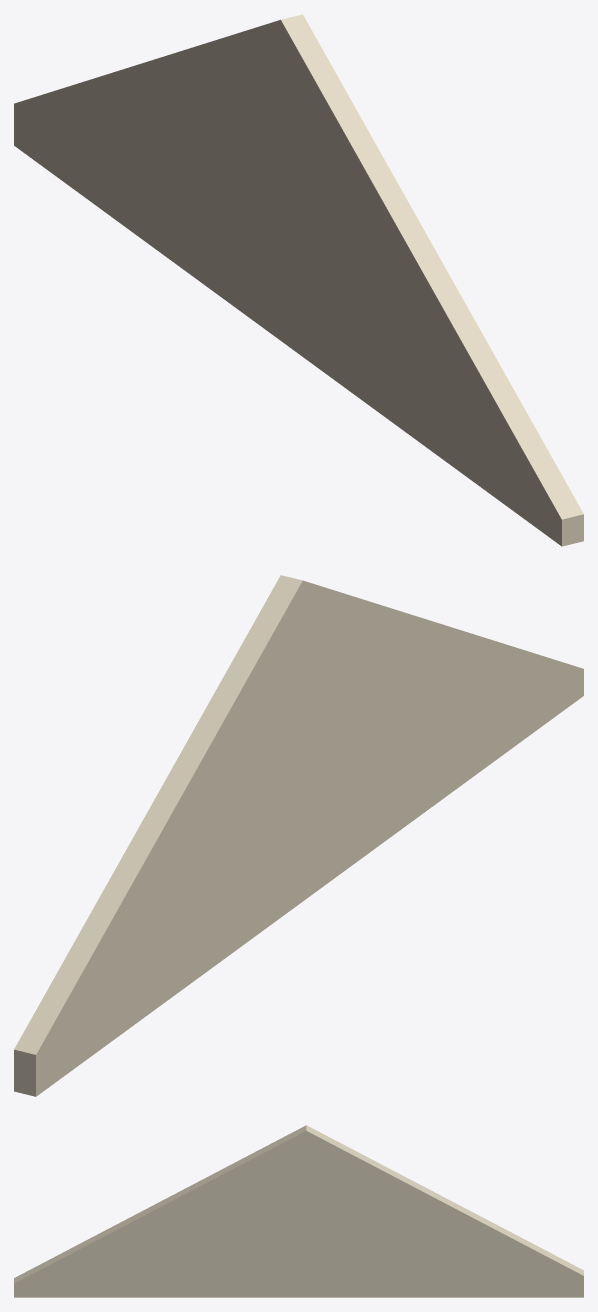
3 renders of one model, top to bottom at view 1: azimuth 30°, elevation 25°; view 2: azimuth 150°, elevation 25°; view 3: azimuth 270°, elevation 25°, orthographic. The views are drawn at different scales.
Visible parts, largest first — view 1: B-ROOF-INFILL-09; view 2: B-ROOF-INFILL-09; view 3: B-ROOF-INFILL-09.
Part boxes in pixels (x1,y1,x2,y2): B-ROOF-INFILL-09: (14, 14, 583, 546); B-ROOF-INFILL-09: (14, 575, 583, 1096); B-ROOF-INFILL-09: (14, 1125, 583, 1297).
Bounding box in the file's own units: 0.16 × 2.22 × 6.87.
